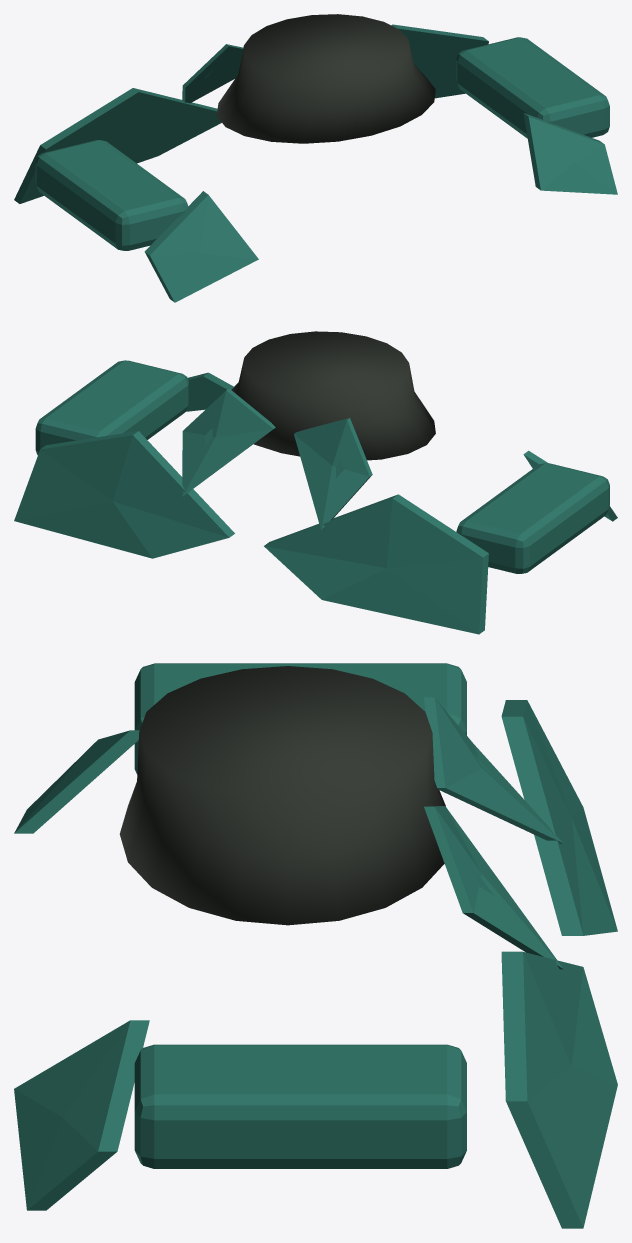
File: CharTrim.glb
The picture shows the model from 3 angles, top to bottom: view 1: azimuth 30°, elevation 25°; view 2: azimuth 150°, elevation 25°; view 3: azimuth 270°, elevation 25°; orthographic projection. The views are drawn at different scales.
Parts seen in each view (by area): view 1: CharTrim; view 2: CharTrim; view 3: CharTrim.
Boxes of the visible parts, <box> form: CharTrim: <box>14,14,617,302</box>; CharTrim: <box>14,331,617,634</box>; CharTrim: <box>14,663,617,1228</box>.
Bounding box in the file's own units: 0.49 × 0.146 × 0.28.
